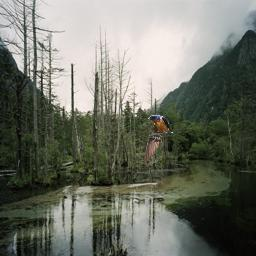Swallow: (143, 114, 174, 164)
